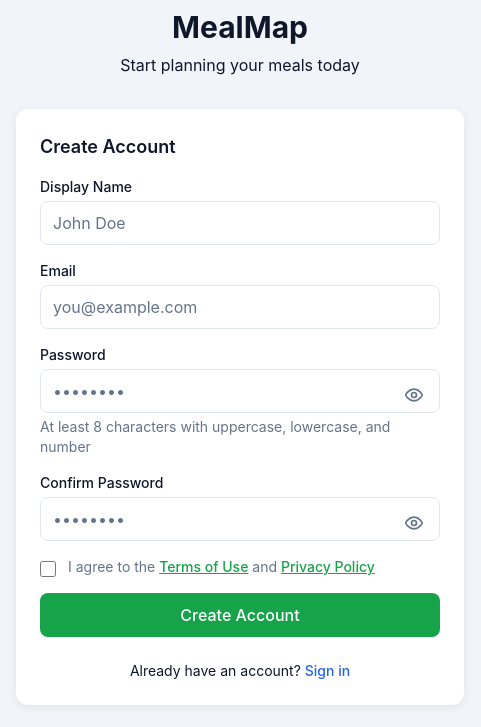
Test case: RegisterPage › clears server error on new submission
The width and height of the screenshot is (481, 727).
Type "Test" into the field labelled "Display Name" at point(240, 223), box 40,201 -> 440,245
Type "test@example.com" into the field labelled "Email" at point(240, 307), box 40,285 -> 440,329
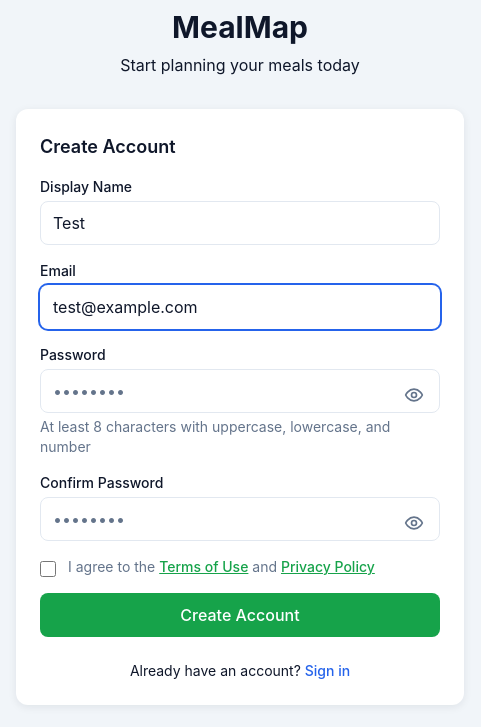
Type "Password123" into the password field labelled "Password" at point(240, 391), box 40,369 -> 440,413
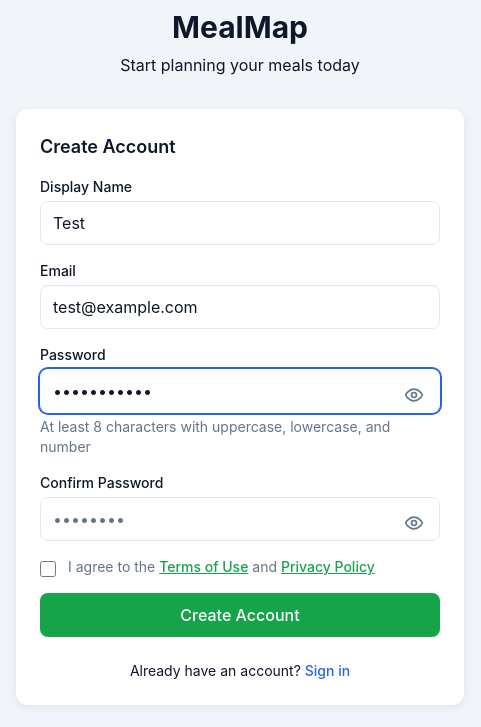
Type "Password123" into the password field labelled "Confirm Password" at point(240, 519), box 40,497 -> 440,541
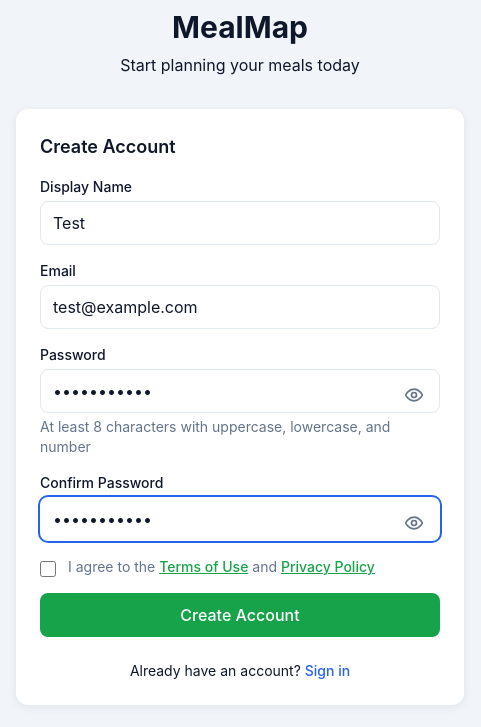
Click the checkbox labelled "I agree to the Terms of Use and Privacy Policy" at point(48, 569), box 40,561 -> 56,577
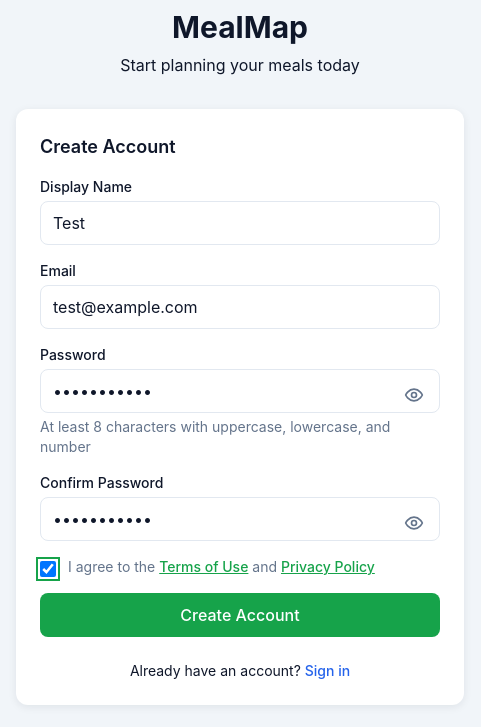
Click the button "Create Account" at point(240, 615), box 40,593 -> 440,637
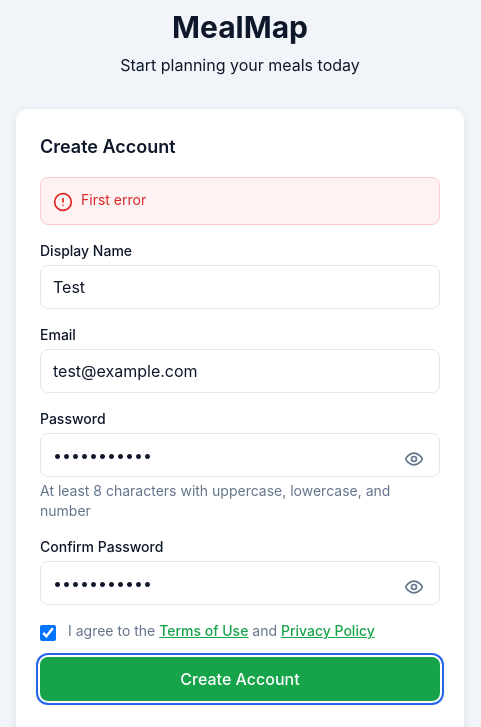
Now the message reads "First error", box 81,191 -> 146,208
Click the button "Create Account" at point(240, 679), box 40,657 -> 440,701
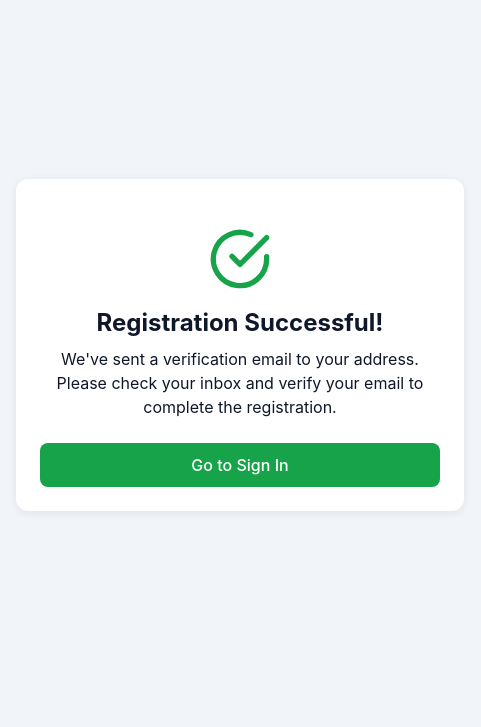
Now the message "First error" is gone
